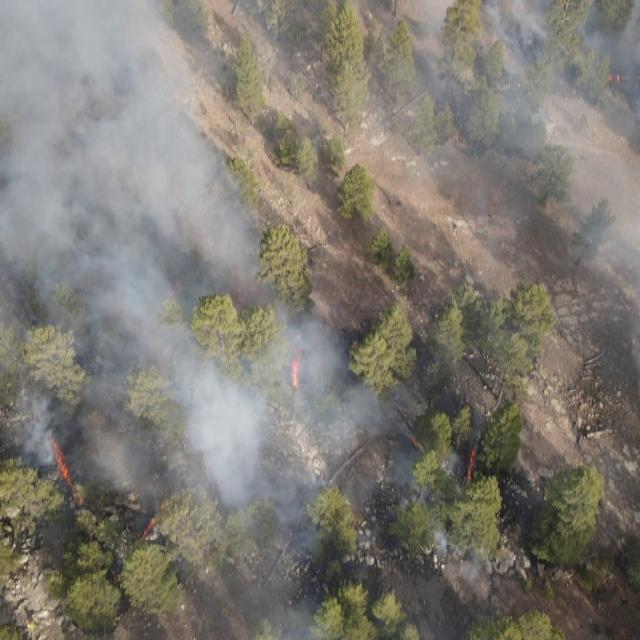fire: (48, 442, 85, 510), (138, 498, 168, 540), (290, 345, 308, 391), (468, 443, 480, 486), (164, 282, 187, 302), (284, 519, 304, 541), (606, 70, 633, 86), (410, 432, 422, 453), (112, 576, 123, 588), (452, 132, 461, 140)
smoke: (0, 0, 216, 494), (178, 283, 434, 588), (239, 0, 640, 185), (516, 187, 640, 389), (207, 154, 272, 284), (426, 436, 495, 508), (261, 579, 331, 640), (431, 535, 496, 597)
